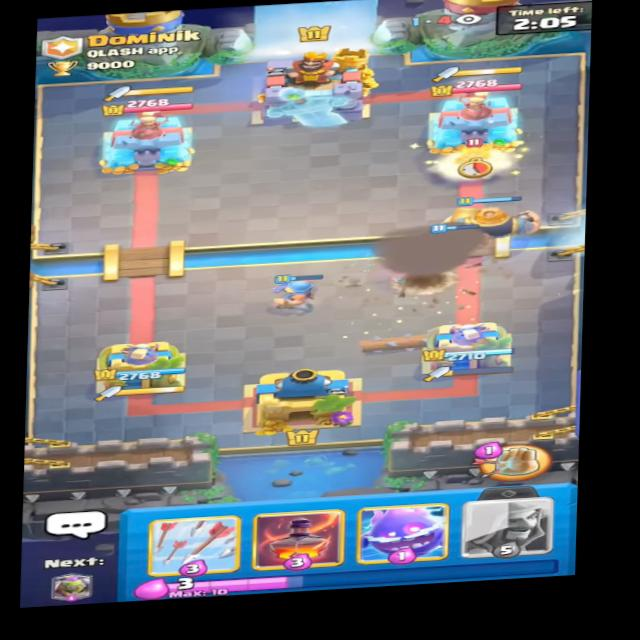little-prince: (445, 134, 502, 174)
